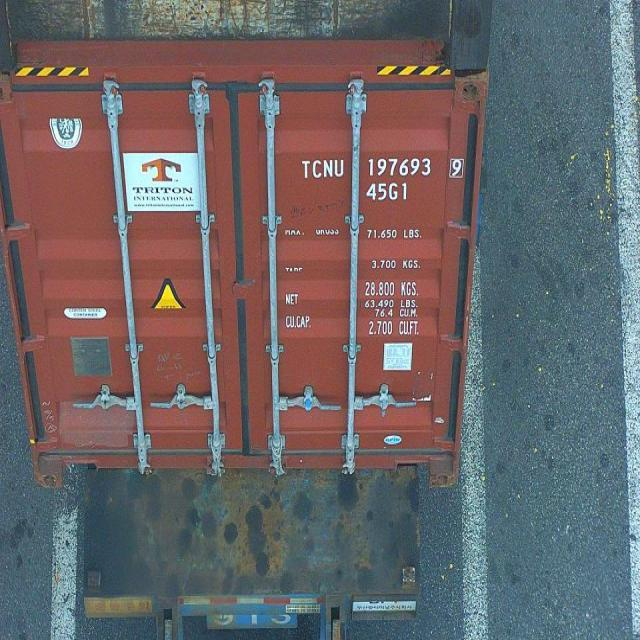ISO: (366, 182, 410, 202)
container_number: (306, 153, 465, 179)
